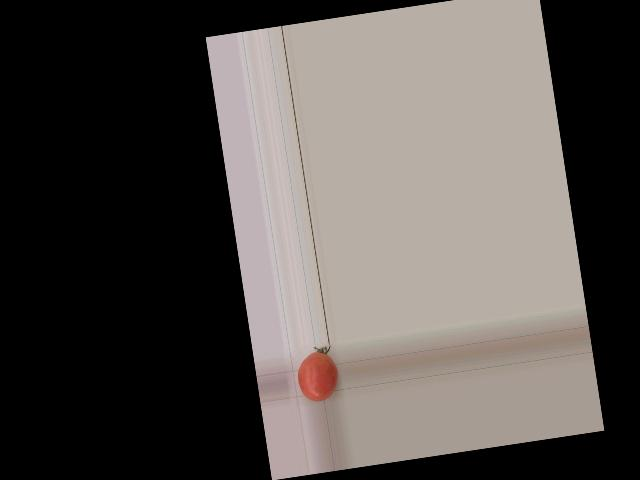tomato: (294, 349, 341, 403)
